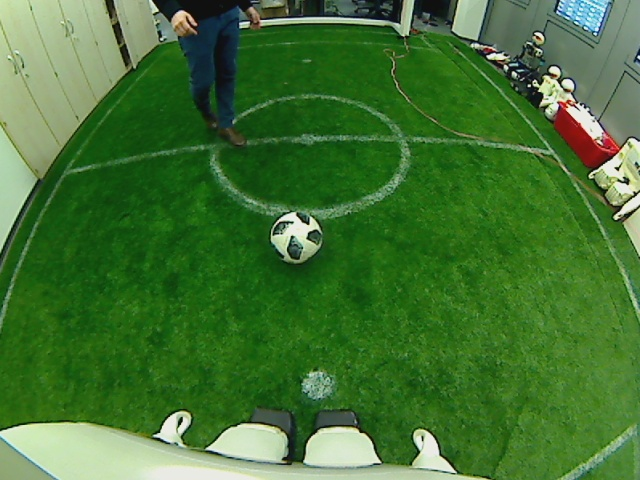ball: (268, 210, 324, 264)
